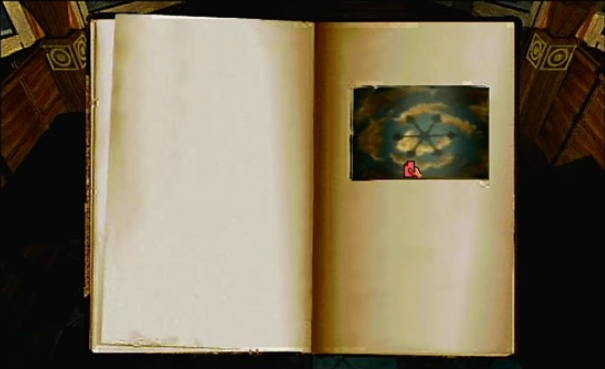Keep: (401, 158, 426, 179)
